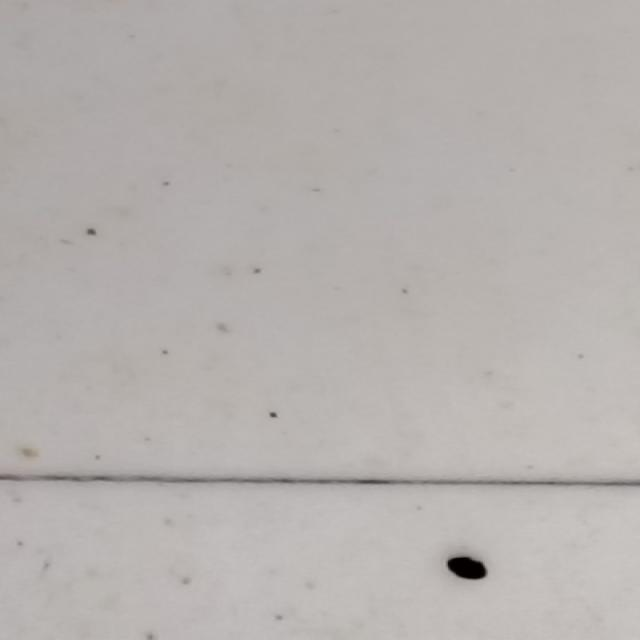varroa: (443, 555, 490, 583)
